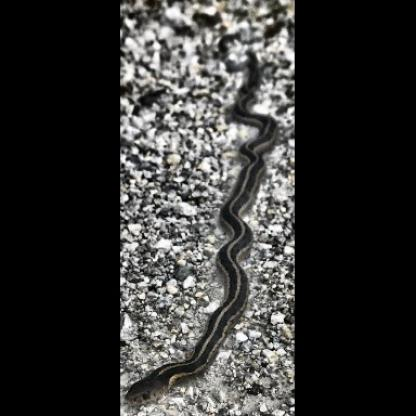Snake: (141, 46, 277, 396)
